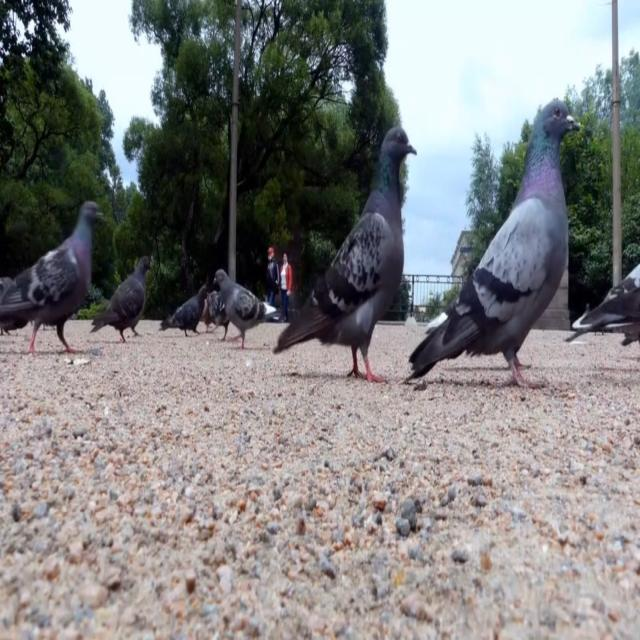bird: (401, 80, 582, 396), (272, 119, 422, 391), (0, 187, 107, 361), (563, 238, 640, 377), (87, 248, 155, 350), (208, 261, 281, 356), (156, 278, 214, 340)
